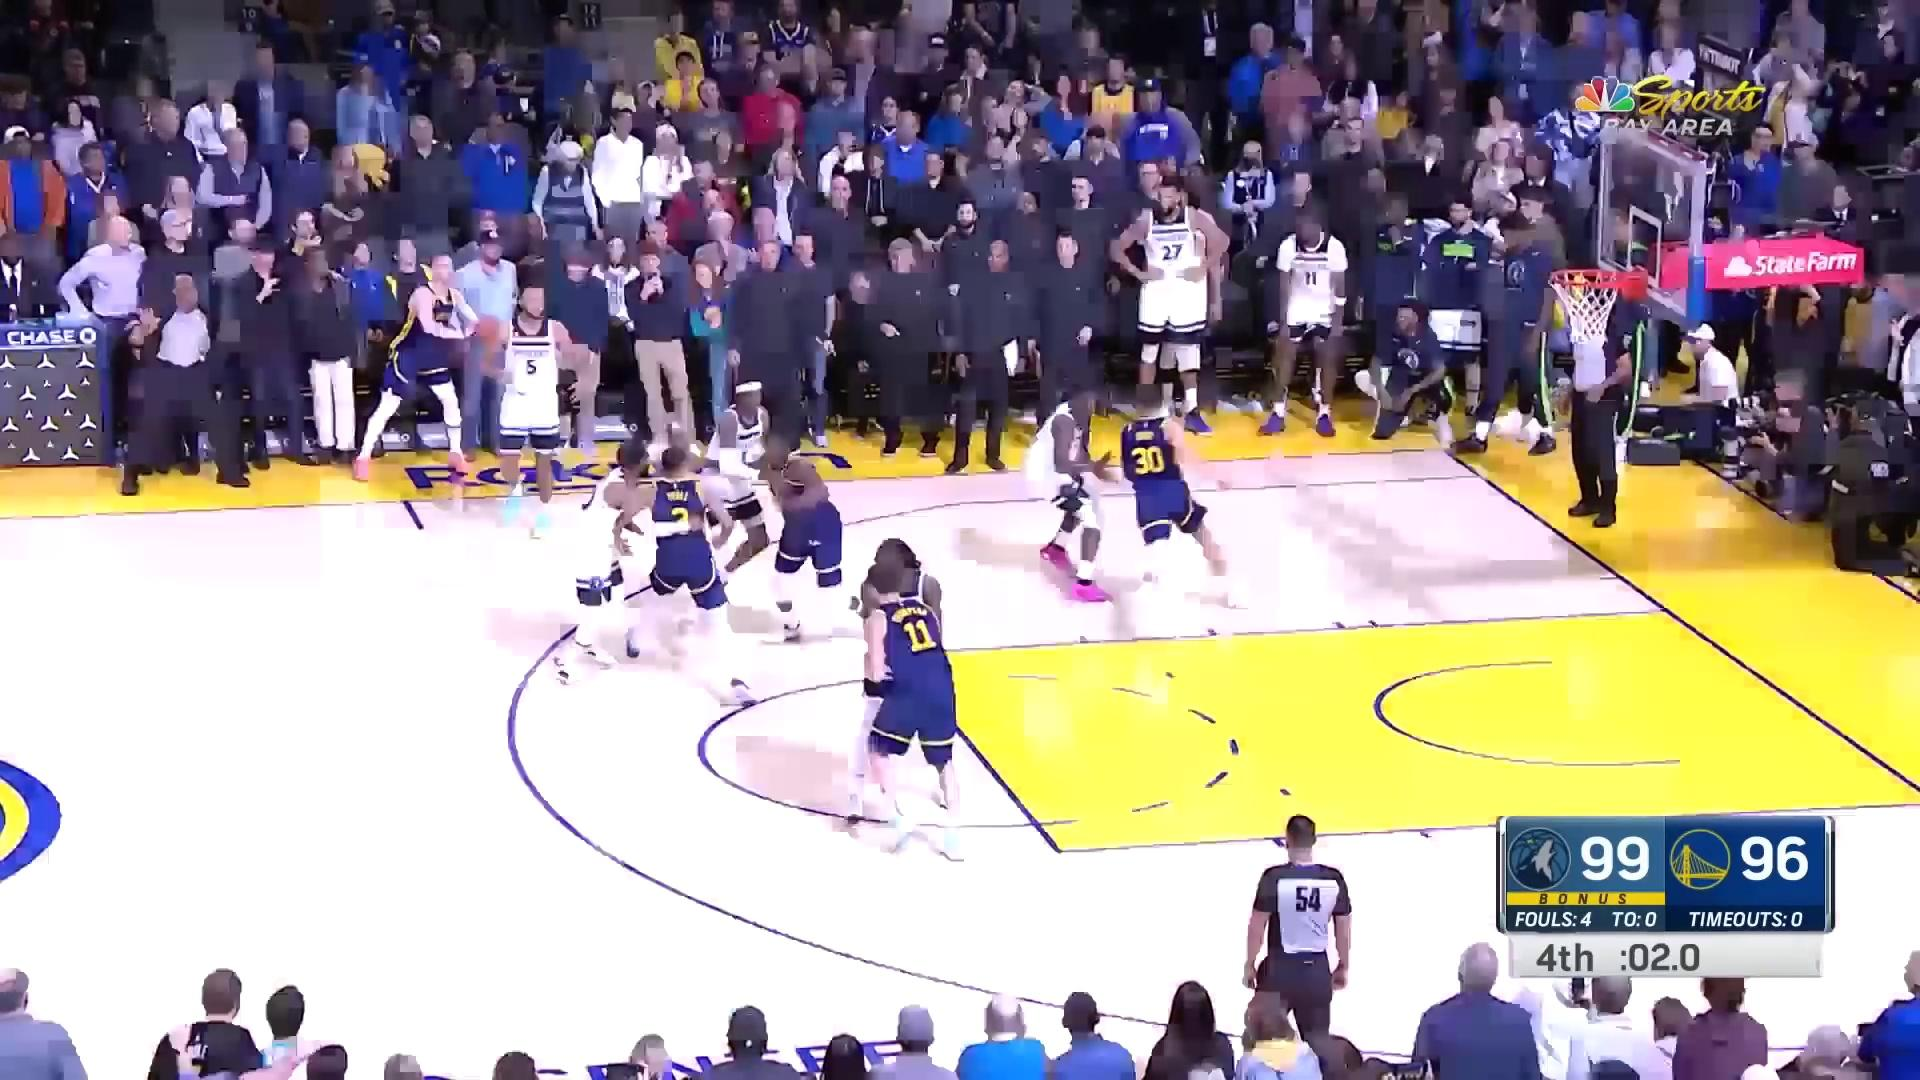Player: (619, 443, 761, 716), (823, 531, 949, 828), (854, 563, 976, 869), (1099, 389, 1254, 611), (663, 371, 789, 618), (754, 429, 859, 653), (558, 443, 649, 688), (481, 284, 568, 534), (1023, 381, 1113, 608)
Rim: (1558, 121, 1711, 343)
